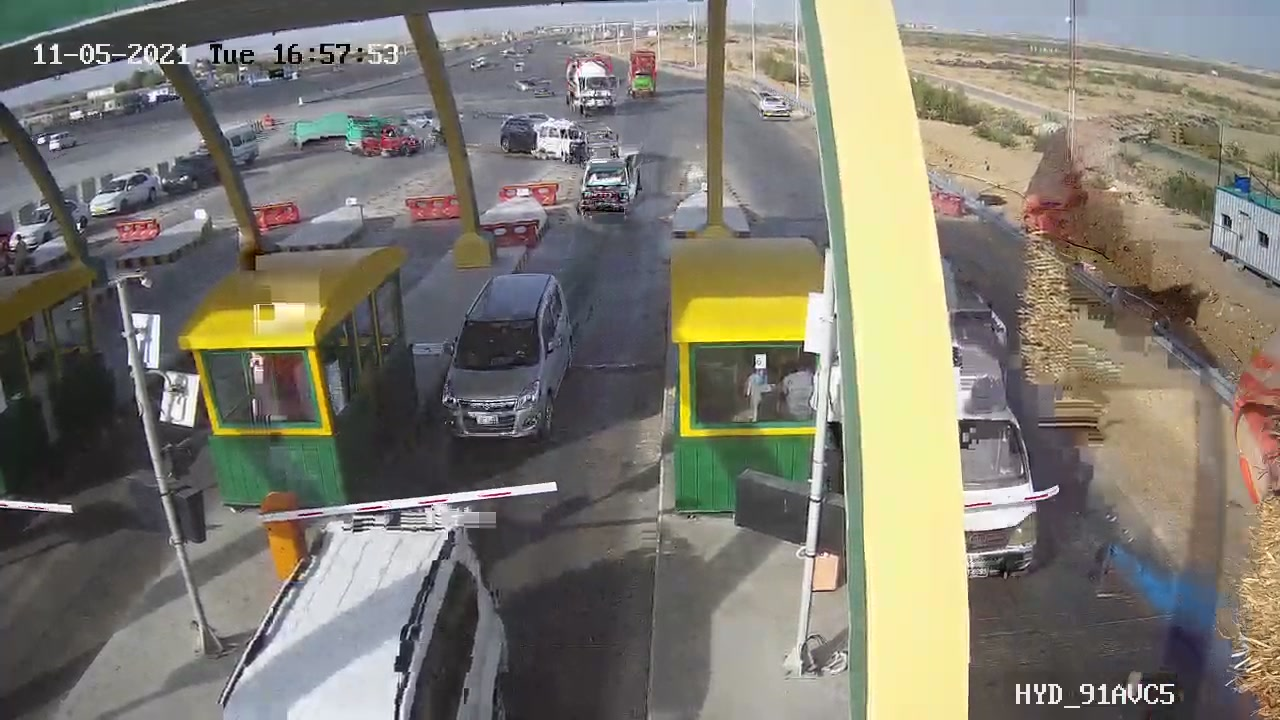F1: (418, 255, 591, 464)
